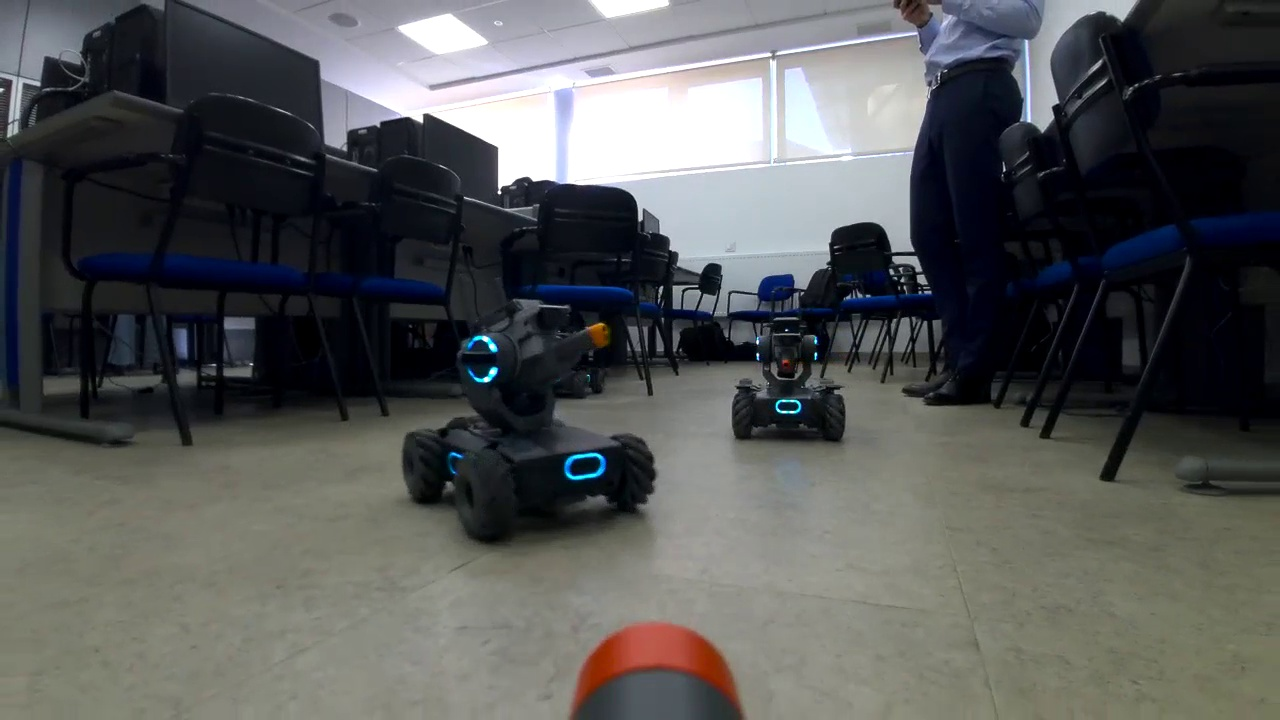robot: (396, 290, 661, 552), (723, 308, 852, 441)
